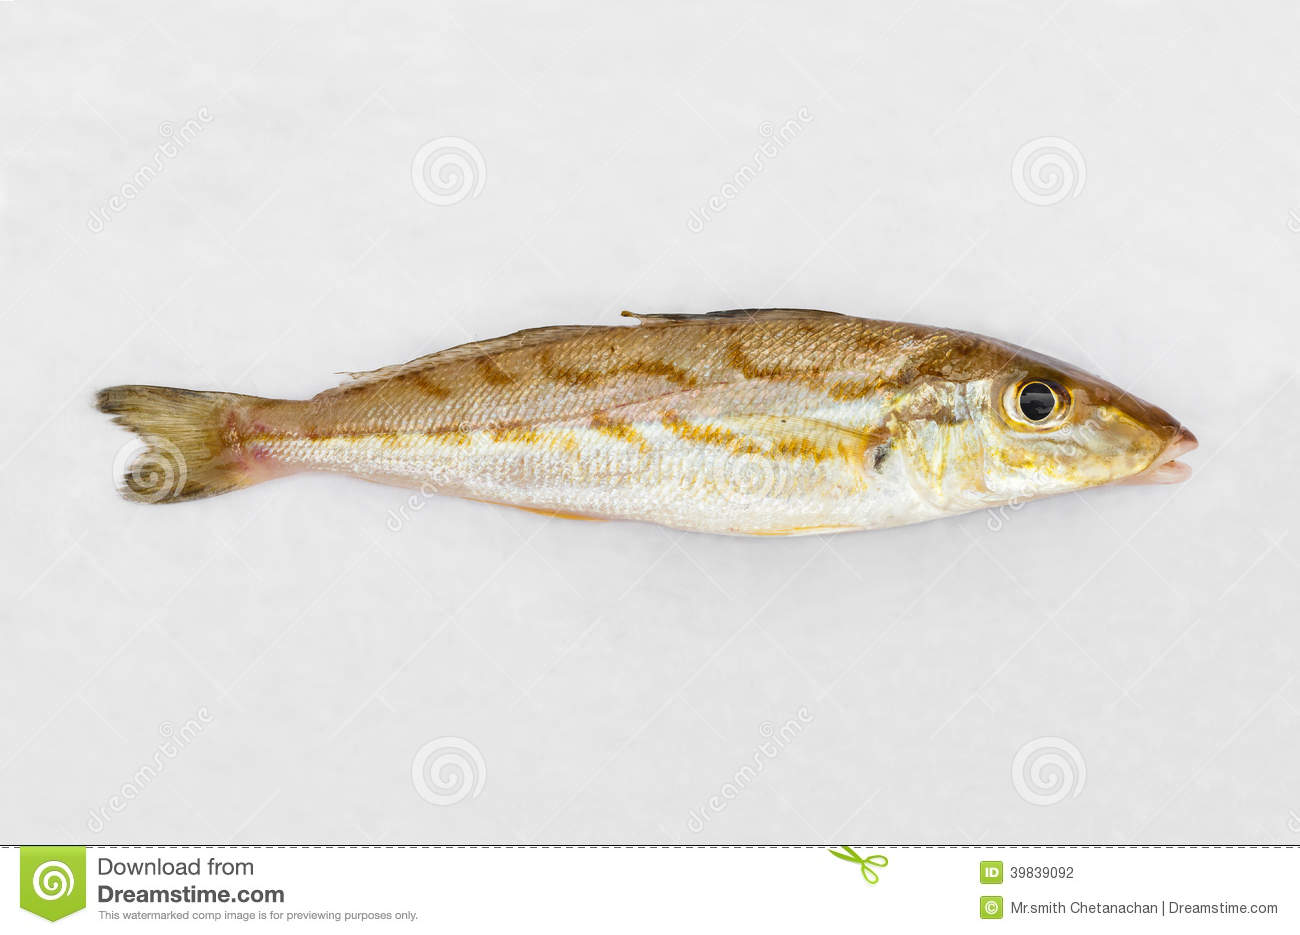kiss: (86, 285, 1202, 553)
